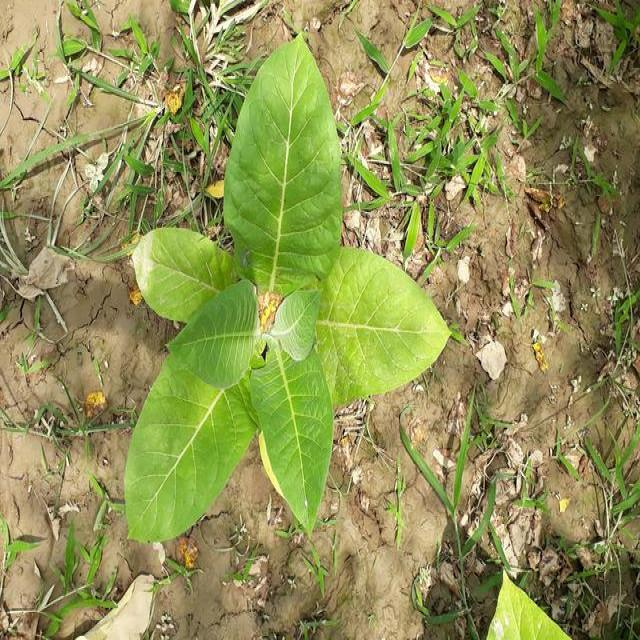crop: (126, 42, 446, 534), (484, 561, 563, 640), (91, 573, 161, 640)
